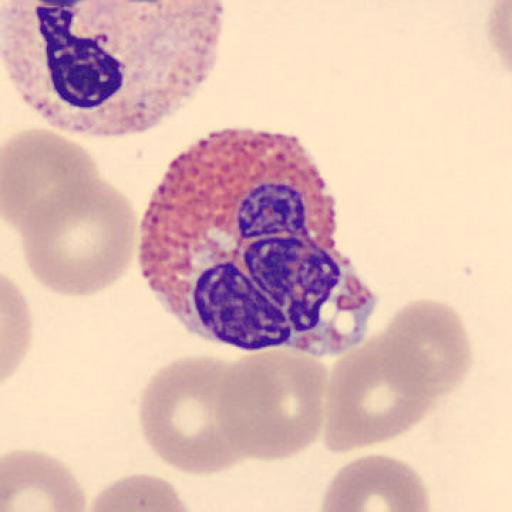RBC: (16, 176, 139, 298), (136, 353, 258, 476), (322, 337, 436, 453), (214, 350, 326, 462), (2, 126, 100, 236), (382, 297, 474, 394), (318, 453, 432, 512), (2, 447, 88, 512), (87, 471, 193, 512), (1, 272, 33, 384), (485, 0, 512, 78)
WBC: (138, 131, 364, 353), (0, 1, 228, 140)
